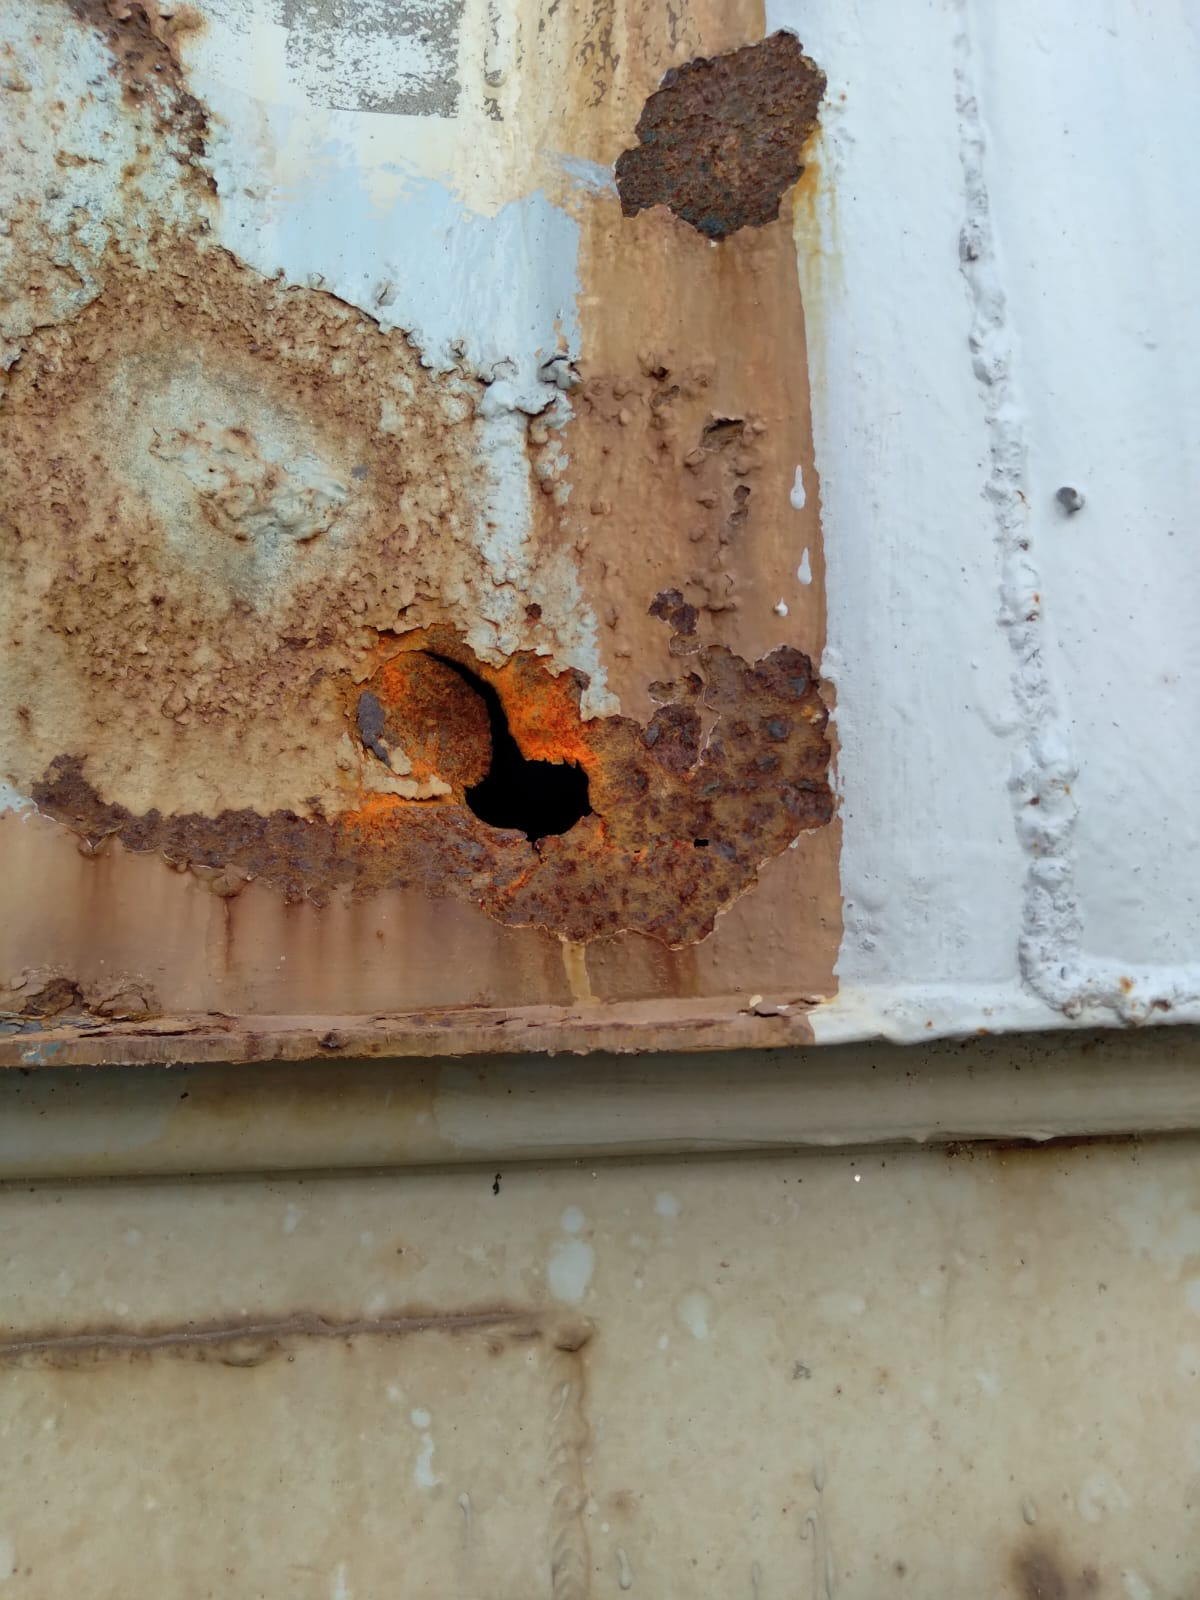hole: (332, 640, 621, 888)
rust: (32, 23, 527, 615), (642, 627, 824, 932), (534, 45, 802, 239)
